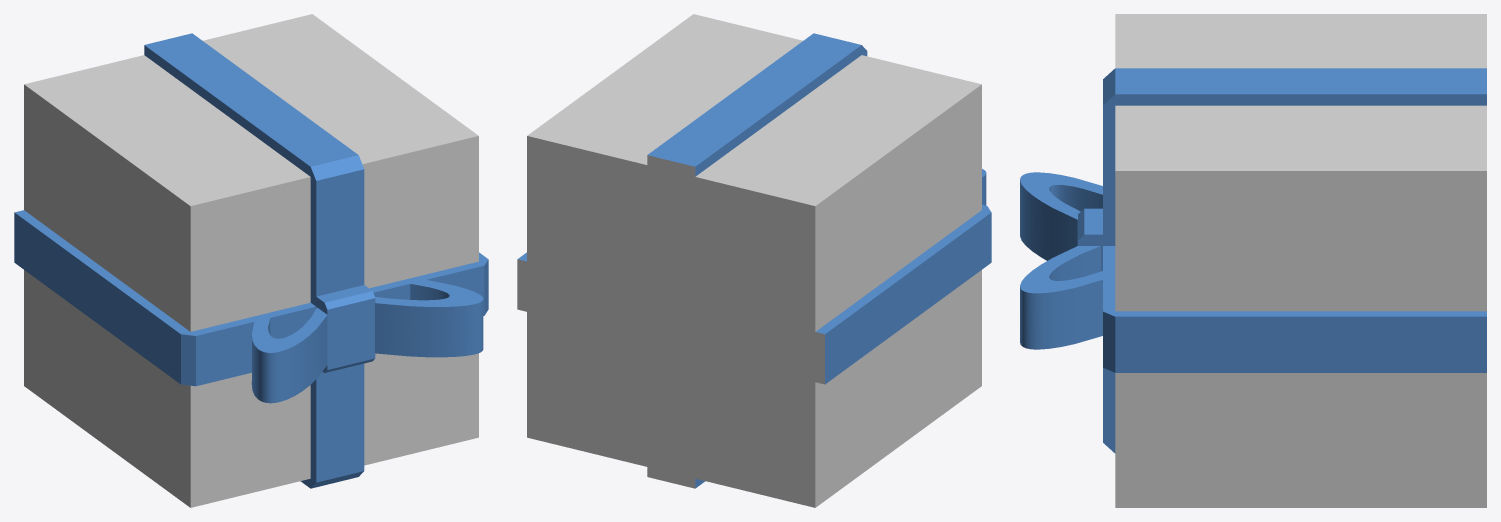
Rendered from Gift.fbx.
3 renders of one model, left to right at view 1: azimuth 30°, elevation 25°; view 2: azimuth 150°, elevation 25°; view 3: azimuth 270°, elevation 25°, orthographic. The views are drawn at different scales.
Parts seen in each view (by area): view 1: Body2; view 2: Body2; view 3: Body2.
Part boxes in pixels (x1,y1,x2,y2): Body2: (14, 14, 488, 507); Body2: (517, 14, 991, 507); Body2: (1020, 14, 1486, 507).
Size of the model in its own units: 64 by 64 by 75.36.
